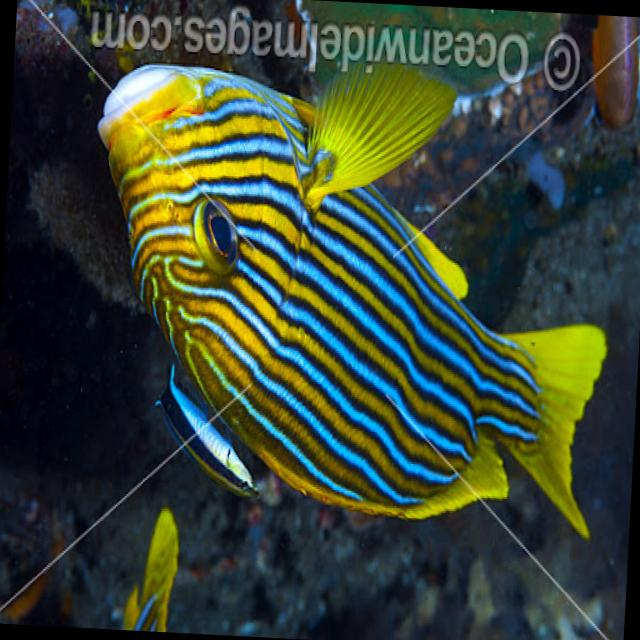RibbonedSweetlips: (75, 42, 622, 544)
